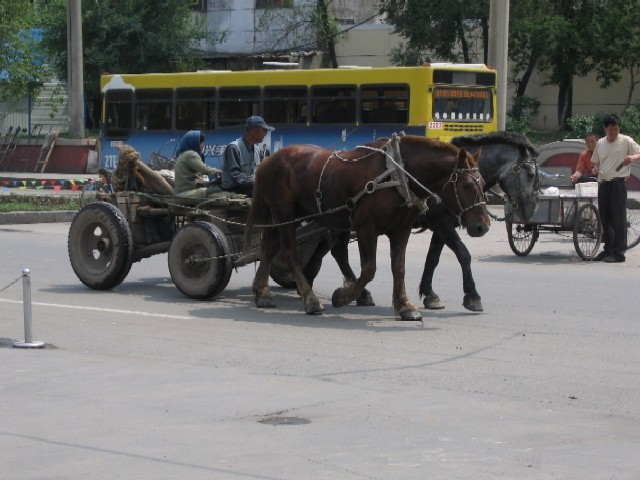horse: (248, 133, 491, 320), (308, 126, 543, 314)
